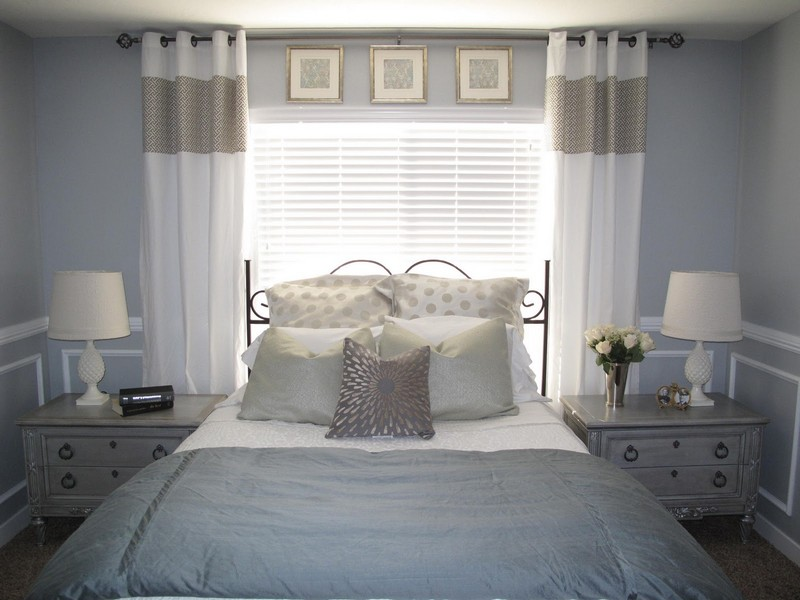bed: (47, 257, 744, 599)
lamp: (660, 268, 747, 411), (45, 268, 133, 409)
table: (17, 391, 234, 548), (562, 391, 766, 540)
